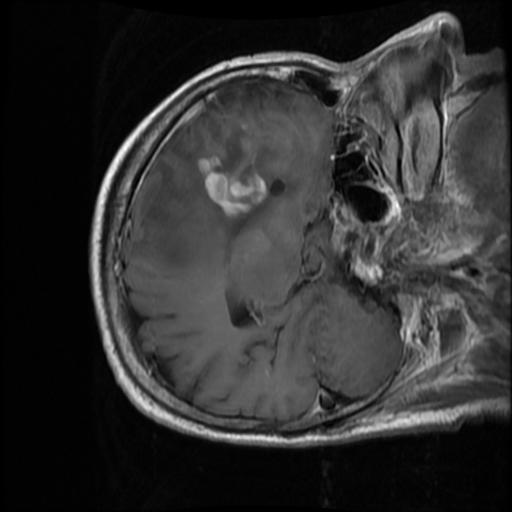glioma: (196, 146, 269, 217)
